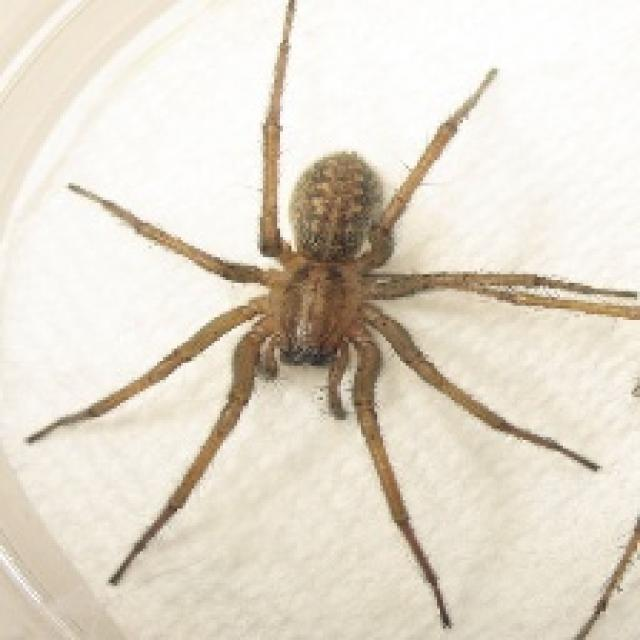Non venomous spider: (15, 16, 640, 610)
